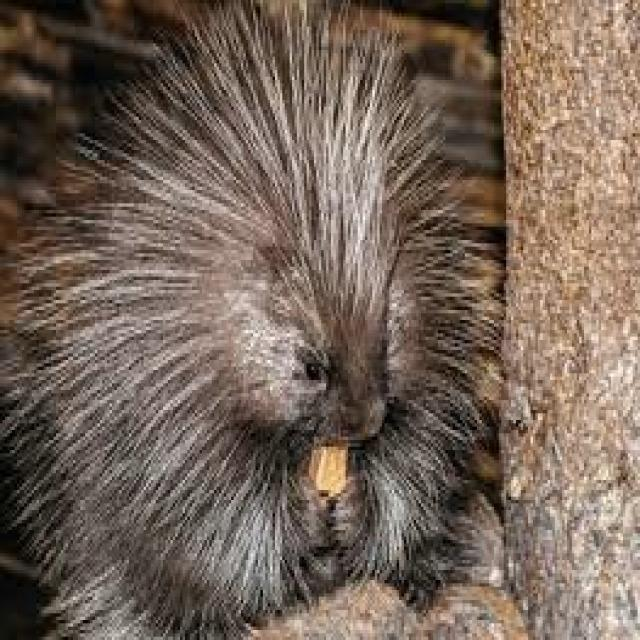porcupine: (2, 0, 499, 637)
